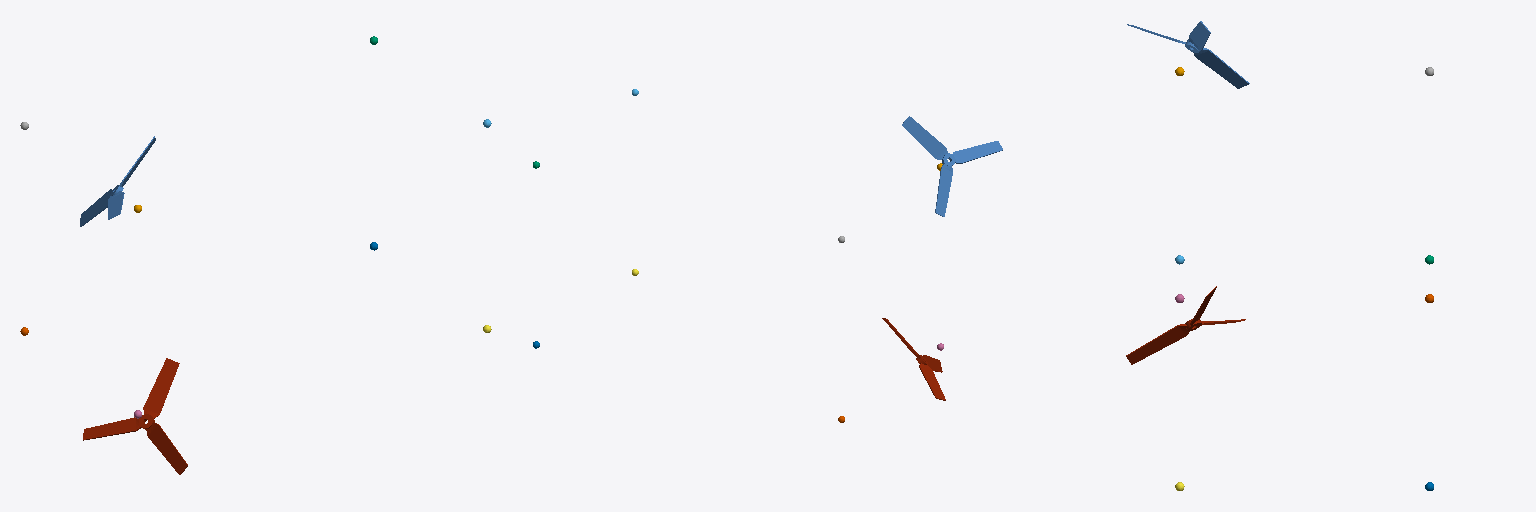
robot.urdf — onshape:
<robot name="onshape">
<link name="odar_center">
<visual>
<origin xyz="0 0 0" rpy="0 0 0" />
<geometry>
<mesh filename="odar_center.stl"/>
</geometry>
<material name="odar_center_material">
<color rgba="0.5 0.5 0.5 1.0"/>
</material>
</visual>
<collision>
<origin xyz="0 0 0" rpy="0 0 0" />
<geometry>
<mesh filename="odar_center.stl"/>
</geometry>
</collision>
<inertial>
<origin xyz="0 0 0" rpy="0 0 0"/>
<mass value="1.60" />
<inertia ixx="0.0118" ixy="-0.0002"  ixz="-0.0018" iyy="0.1037" iyz="0" izz="0.1029" />
</inertial>
</link>

<link name="prop1_ccw">
<visual>
<origin xyz="0 0 0.025937580000000015623" rpy="0 0 0" />
<geometry>
<mesh filename="prop1_ccw.stl"/>
</geometry>
<material name="prop1_ccw_material">
<color rgba="0.59607843137254901134 0.17647058823529412908 0.050980392156862744391 1.0"/>
</material>
</visual>
<collision>
<origin xyz="0 0 0.025937580000000015623" rpy="0 0 0" />
<geometry>
<mesh filename="prop1_ccw.stl"/>
</geometry>
</collision>
<inertial>
<origin xyz="0 0 0" rpy="0 0 0"/>
<mass value="0.005" />
<inertia ixx="0.00000297166" ixy="0"  ixz="0" iyy="0.00000297166" iyz="0" izz="0.00000591129" />
</inertial>
</link>

<joint name="rotor1" type="revolute">
<origin xyz="0.19 -0.10667889383230952371 0.10690773959400795556" rpy="-0.76172013743401167929 0.50384486504700898291 -0.49146705106369859006" />
<parent link="odar_center" />
<child link="prop1_ccw" />
<axis xyz="0 0 1"/>
<limit effort="1" velocity="20" />
<joint_properties friction="0.0"/>
</joint>

<link name="prop2_cw">
<visual>
<origin xyz="0 0 0.025937580000000001745" rpy="3.141592653589793116 0 0" />
<geometry>
<mesh filename="prop2_cw.stl"/>
</geometry>
<material name="prop2_cw_material">
<color rgba="0.32549019607843138191 0.52941176470588235947 0.75294117647058822484 1.0"/>
</material>
</visual>
<collision>
<origin xyz="0 0 0.025937580000000001745" rpy="3.141592653589793116 0 0" />
<geometry>
<mesh filename="prop2_cw.stl"/>
</geometry>
</collision>
<inertial>
<origin xyz="0 0 0" rpy="0 0 0"/>
<mass value="0.005" />
<inertia ixx="0.00000297166" ixy="0"  ixz="0" iyy="0.00000297166" iyz="0" izz="0.00000591129" />
</inertial>
</link>

<joint name="rotor2" type="revolute">
<origin xyz="0.19 0.10667889383230873268 0.10690773959400820536" rpy="0.43106599087810859583 0.79884651171808707115 -1.9602557982348738363" />
<parent link="odar_center" />
<child link="prop2_cw" />
<axis xyz="0 0 1"/>
<limit effort="1" velocity="20" />
<joint_properties friction="0.0"/>
</joint>

<link name="prop3_cw">
<visual>
<origin xyz="0 0 0.02593757999999997399" rpy="-3.141592653589793116 0 0" />
<geometry>
<mesh filename="prop3_cw.stl"/>
</geometry>
<material name="prop3_cw_material">
<color rgba="0.32549019607843138191 0.52941176470588235947 0.75294117647058822484 1.0"/>
</material>
</visual>
<collision>
<origin xyz="0 0 0.02593757999999997399" rpy="-3.141592653589793116 0 0" />
<geometry>
<mesh filename="prop3_cw.stl"/>
</geometry>
</collision>
<inertial>
<origin xyz="0 0 0" rpy="0 0 0"/>
<mass value="0.005" />
<inertia ixx="0.00000297166" ixy="0"  ixz="0" iyy="0.00000297166" iyz="0" izz="0.00000591129" />
</inertial>
</link>

<joint name="rotor3" type="revolute">
<origin xyz="0.19 -0.1066788938323083441 -0.10690773959400755311" rpy="2.2928785981507244784 -0.28801524573923636963 -2.4266630327565632541" />
<parent link="odar_center" />
<child link="prop3_cw" />
<axis xyz="0 0 1"/>
<limit effort="1" velocity="20" />
<joint_properties friction="0.0"/>
</joint>

<link name="prop4_ccw">
<visual>
<origin xyz="0 0 0.025937579999999960112" rpy="0 0 0" />
<geometry>
<mesh filename="prop4_ccw.stl"/>
</geometry>
<material name="prop4_ccw_material">
<color rgba="0.59607843137254901134 0.17647058823529412908 0.050980392156862744391 1.0"/>
</material>
</visual>
<collision>
<origin xyz="0 0 0.025937579999999960112" rpy="0 0 0" />
<geometry>
<mesh filename="prop4_ccw.stl"/>
</geometry>
</collision>
<inertial>
<origin xyz="0 0 0" rpy="0 0 0"/>
<mass value="0.005" />
<inertia ixx="0.00000297166" ixy="0"  ixz="0" iyy="0.00000297166" iyz="0" izz="0.00000591129" />
</inertial>
</link>

<joint name="rotor4" type="revolute">
<origin xyz="0.19 0.10667889383230902411 -0.10690773959400616533" rpy="-3.0468882700019426224 0.88074536208921405667 2.6534237677933192323" />
<parent link="odar_center" />
<child link="prop4_ccw" />
<axis xyz="0 0 1"/>
<limit effort="1" velocity="20" />
<joint_properties friction="0.0"/>
</joint>

<link name="prop5_cw">
<visual>
<origin xyz="0 0 0.025937579999999987868" rpy="0 0 0" />
<geometry>
<mesh filename="prop5_cw.stl"/>
</geometry>
<material name="prop5_cw_material">
<color rgba="0.32549019607843138191 0.52941176470588235947 0.75294117647058822484 1.0"/>
</material>
</visual>
<collision>
<origin xyz="0 0 0.025937579999999987868" rpy="0 0 0" />
<geometry>
<mesh filename="prop5_cw.stl"/>
</geometry>
</collision>
<inertial>
<origin xyz="0 0 0" rpy="0 0 0"/>
<mass value="0.005" />
<inertia ixx="0.00000297166" ixy="0"  ixz="0" iyy="0.00000297166" iyz="0" izz="0.00000591129" />
</inertial>
</link>

<joint name="rotor5" type="revolute">
<origin xyz="-0.19 0.10667889383231010658 -0.10690773959400948212" rpy="-2.8197196344319137573 -0.83923680562395919225 -2.9521720882640174466" />
<parent link="odar_center" />
<child link="prop5_cw" />
<axis xyz="0 0 1"/>
<limit effort="1" velocity="20" />
<joint_properties friction="0.0"/>
</joint>

<link name="prop6_ccw">
<visual>
<origin xyz="0 0 0.025937580000000008684" rpy="0 0 0" />
<geometry>
<mesh filename="prop6_ccw.stl"/>
</geometry>
<material name="prop6_ccw_material">
<color rgba="0.59607843137254901134 0.17647058823529412908 0.050980392156862744391 1.0"/>
</material>
</visual>
<collision>
<origin xyz="0 0 0.025937580000000008684" rpy="0 0 0" />
<geometry>
<mesh filename="prop6_ccw.stl"/>
</geometry>
</collision>
<inertial>
<origin xyz="0 0 0" rpy="0 0 0"/>
<mass value="0.005" />
<inertia ixx="0.00000297166" ixy="0"  ixz="0" iyy="0.00000297166" iyz="0" izz="0.00000591129" />
</inertial>
</link>

<joint name="rotor6" type="revolute">
<origin xyz="-0.19 -0.10667889383230873268 -0.10690773959400609594" rpy="2.2949296787757305083 0.29574976569221184119 2.4337908078615528851" />
<parent link="odar_center" />
<child link="prop6_ccw" />
<axis xyz="0 0 1"/>
<limit effort="1" velocity="20" />
<joint_properties friction="0.0"/>
</joint>

<link name="prop7_ccw">
<visual>
<origin xyz="0 0 0.025937580000000015623" rpy="0 0 0" />
<geometry>
<mesh filename="prop7_ccw.stl"/>
</geometry>
<material name="prop7_ccw_material">
<color rgba="0.59607843137254901134 0.17647058823529412908 0.050980392156862744391 1.0"/>
</material>
</visual>
<collision>
<origin xyz="0 0 0.025937580000000015623" rpy="0 0 0" />
<geometry>
<mesh filename="prop7_ccw.stl"/>
</geometry>
</collision>
<inertial>
<origin xyz="0 0 0" rpy="0 0 0"/>
<mass value="0.005" />
<inertia ixx="0.00000297166" ixy="0"  ixz="0" iyy="0.00000297166" iyz="0" izz="0.00000591129" />
</inertial>
</link>

<joint name="rotor7" type="revolute">
<origin xyz="-0.19 0.10667889383230881595 0.10690773959400642901" rpy="0.42137538424756221245 -0.80311158301320095809 1.9737516233729166526" />
<parent link="odar_center" />
<child link="prop7_ccw" />
<axis xyz="0 0 1"/>
<limit effort="1" velocity="20" />
<joint_properties friction="0.0"/>
</joint>

<link name="prop8_cw">
<visual>
<origin xyz="0 0 0.025937579999999987868" rpy="3.141592653589793116 0 0" />
<geometry>
<mesh filename="prop8_cw.stl"/>
</geometry>
<material name="prop8_cw_material">
<color rgba="0.32549019607843138191 0.52941176470588235947 0.75294117647058822484 1.0"/>
</material>
</visual>
<collision>
<origin xyz="0 0 0.025937579999999987868" rpy="3.141592653589793116 0 0" />
<geometry>
<mesh filename="prop8_cw.stl"/>
</geometry>
</collision>
<inertial>
<origin xyz="0 0 0" rpy="0 0 0"/>
<mass value="0.005" />
<inertia ixx="0.00000297166" ixy="0"  ixz="0" iyy="0.00000297166" iyz="0" izz="0.00000591129" />
</inertial>
</link>

<joint name="rotor8" type="revolute">
<origin xyz="-0.19 -0.10667889383231098088 0.10690773959400853843" rpy="0.88294930045505159999 -0.060232920967615677377 -2.1320910367088550252" />
<parent link="odar_center" />
<child link="prop8_cw" />
<axis xyz="0 0 1"/>
<limit effort="1" velocity="20" />
<joint_properties friction="0.0"/>
</joint>



<link name="prop1_thrust">
        <visual>
            <geometry>
                <sphere radius="0.004" />
            </geometry>
        </visual>
        <inertial>
            <mass value="0" />
            <inertia ixx="0" ixy="0"  ixz="0" iyy="0" iyz="0" izz="0" />
        </inertial>
    </link>
    <link name="prop2_thrust">
        <visual>
            <geometry>
                <sphere radius="0.004" />
            </geometry>
        </visual>
        <inertial>
            <mass value="0" />
            <inertia ixx="0" ixy="0"  ixz="0" iyy="0" iyz="0" izz="0" />
        </inertial>
    </link>
    <link name="prop3_thrust">
        <visual>
            <geometry>
                <sphere radius="0.004" />
            </geometry>
        </visual>
        <inertial>
            <mass value="0" />
            <inertia ixx="0" ixy="0"  ixz="0" iyy="0" iyz="0" izz="0" />
        </inertial>
    </link>
    <link name="prop4_thrust">
        <visual>
            <geometry>
                <sphere radius="0.004" />
            </geometry>
        </visual>
        <inertial>
            <mass value="0" />
            <inertia ixx="0" ixy="0"  ixz="0" iyy="0" iyz="0" izz="0" />
        </inertial>
    </link>
    <link name="prop5_thrust">
        <visual>
            <geometry>
                <sphere radius="0.004" />
            </geometry>
        </visual>
        <inertial>
            <mass value="0" />
            <inertia ixx="0" ixy="0"  ixz="0" iyy="0" iyz="0" izz="0" />
        </inertial>
    </link>
    <link name="prop6_thrust">
        <visual>
            <geometry>
                <sphere radius="0.004" />
            </geometry>
        </visual>
        <inertial>
            <mass value="0" />
            <inertia ixx="0" ixy="0"  ixz="0" iyy="0" iyz="0" izz="0" />
        </inertial>
    </link>
    <link name="prop7_thrust">
        <visual>
            <geometry>
                <sphere radius="0.004" />
            </geometry>
        </visual>
        <inertial>
            <mass value="0" />
            <inertia ixx="0" ixy="0"  ixz="0" iyy="0" iyz="0" izz="0" />
        </inertial>
    </link>
    <link name="prop8_thrust">
        <visual>
            <geometry>
                <sphere radius="0.004" />
            </geometry>
        </visual>
        <inertial>
            <mass value="0" />
            <inertia ixx="0" ixy="0"  ixz="0" iyy="0" iyz="0" izz="0" />
        </inertial>
    </link>

    <joint name="prop1_thrust_joint" type="fixed">
        <origin xyz="0.19 -0.10667889383230952371 0.10690773959400795556" rpy="-0.76172013743401167929 0.50384486504700898291 -0.49146705106369859006" />
        <parent link="odar_center" />
        <child link="prop1_thrust" />
    </joint>
    <joint name="prop2_thrust_joint" type="fixed">
        <origin xyz="0.19 0.10667889383230873268 0.10690773959400820536" rpy="0.43106599087810859583 0.79884651171808707115 -1.9602557982348738363" />
        <parent link="odar_center" />
        <child link="prop2_thrust" />
    </joint>
    <joint name="prop3_thrust_joint" type="fixed">
        <origin xyz="0.19 -0.1066788938323083441 -0.10690773959400755311" rpy="2.2928785981507244784 -0.28801524573923636963 -2.4266630327565632541" />
        <parent link="odar_center" />
        <child link="prop3_thrust" />
    </joint>
    <joint name="prop4_thrust_joint" type="fixed">
        <origin xyz="0.19 0.10667889383230902411 -0.10690773959400616533" rpy="-3.0468882700019426224 0.88074536208921405667 2.6534237677933192323" />
        <parent link="odar_center" />
        <child link="prop4_thrust" />
    </joint>
    <joint name="prop5_thrust_joint" type="fixed">
        <origin xyz="-0.19 0.10667889383231010658 -0.10690773959400948212" rpy="-2.8197196344319137573 -0.83923680562395919225 -2.9521720882640174466" />
        <parent link="odar_center" />
        <child link="prop5_thrust" />
    </joint>
    <joint name="prop6_thrust_joint" type="fixed">
        <origin xyz="-0.19 -0.10667889383230873268 -0.10690773959400609594" rpy="2.2949296787757305083 0.29574976569221184119 2.4337908078615528851" />
        <parent link="odar_center" />
        <child link="prop6_thrust" />
    </joint>
    <joint name="prop7_thrust_joint" type="fixed">
        <origin xyz="-0.19 0.10667889383230881595 0.10690773959400642901" rpy="0.42137538424756221245 -0.80311158301320095809 1.9737516233729166526" />
        <parent link="odar_center" />
        <child link="prop7_thrust" />
    </joint>
    <joint name="prop8_thrust_joint" type="fixed">
        <origin xyz="-0.19 -0.10667889383231098088 0.10690773959400853843" rpy="0.88294930045505159999 -0.060232920967615677377 -2.1320910367088550252" />
        <parent link="odar_center" />
        <child link="prop8_thrust" />
    </joint>


</robot>

--- Facts derived from the render (not from the file) ---
3 views of the same robot in one strip: view 1: azimuth 30°, elevation 25°; view 2: azimuth 150°, elevation 25°; view 3: azimuth 270°, elevation 25° (orthographic).
Model onshape with 17 links and 16 joints (8 revolute, 8 fixed), rooted at odar_center, posed every joint at zero.
Links seen in each view (by area): view 1: prop6_ccw, prop8_cw; view 2: prop8_cw, prop6_ccw; view 3: prop8_cw, prop6_ccw.
Link boxes in pixels (left/top/right/bottom): prop6_ccw: left=83, top=358, right=187, bottom=474; prop8_cw: left=80, top=136, right=155, bottom=226; prop8_cw: left=902, top=116, right=1002, bottom=216; prop6_ccw: left=882, top=318, right=945, bottom=400; prop8_cw: left=1127, top=21, right=1249, bottom=88; prop6_ccw: left=1126, top=286, right=1245, bottom=364.
Size in the robot's own frame: 0.4395 by 0.2637 by 0.3276 metres.
2 mesh visuals loaded from 9 distinct referenced files (2 binary STL); not drawn: 7 (reference not matched to a file when rendering).
